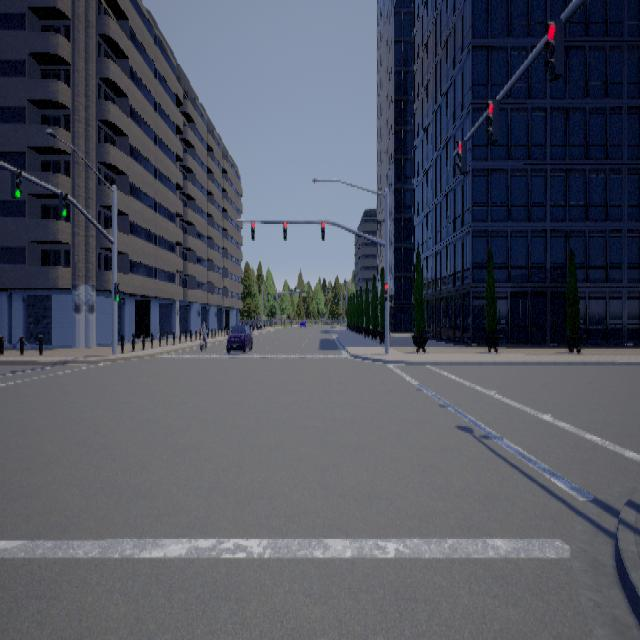green_light: (10, 168, 21, 197), (58, 190, 67, 215), (113, 282, 119, 301)
red_light: (543, 17, 563, 81), (485, 98, 498, 143), (455, 138, 466, 174), (383, 282, 388, 300), (321, 220, 325, 240), (283, 222, 287, 242), (250, 220, 254, 240)
vehicle: (225, 323, 252, 352)
